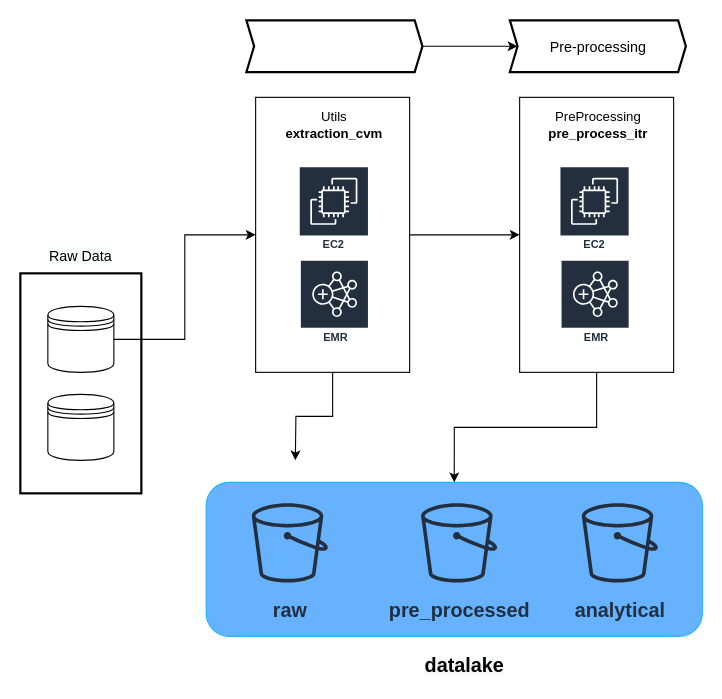
The diagram is 722 pixels wide and 699 high, and some of its shapes have lost their labels. The shapes that lost their labels are listed below. From the top down, each one's box as (x1, y1, x2, y2) in pixels, then its label:
(245, 19, 423, 73): Raw Data Ingestion
(47, 305, 114, 372): CVM
(47, 393, 114, 460): b3
